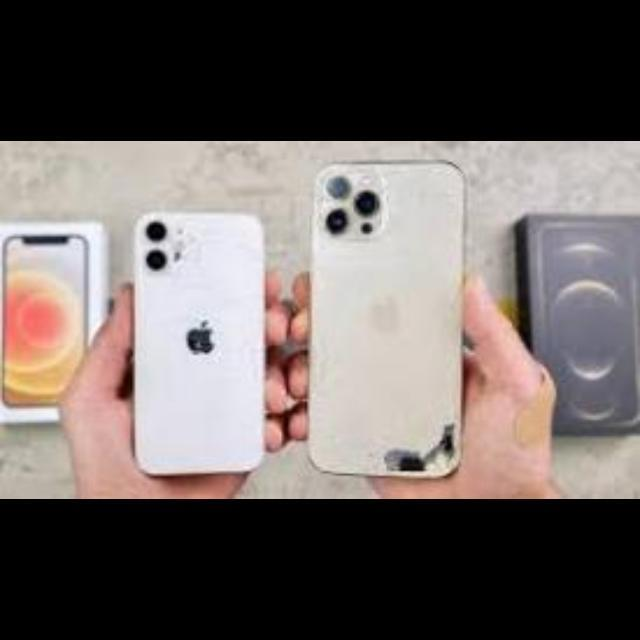phone: (297, 153, 477, 487), (118, 199, 270, 490)
